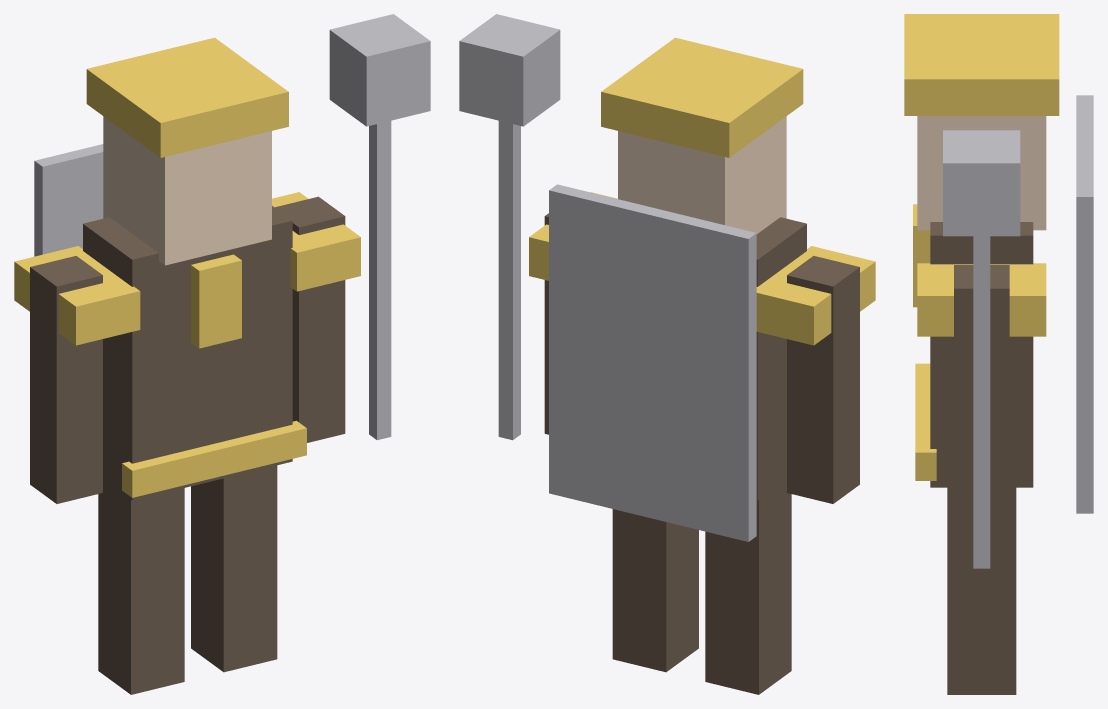
Rendered from 14_elo_echohand_runner_at_maintenance.glb.
3 renders of one model, left to right at view 1: azimuth 30°, elevation 25°; view 2: azimuth 150°, elevation 25°; view 3: azimuth 270°, elevation 25°, orthographic. The views are drawn at different scales.
Parts seen in each view (by area): view 1: Elo Echohand, Runner at Maintenance; view 2: Elo Echohand, Runner at Maintenance; view 3: Elo Echohand, Runner at Maintenance.
Part boxes in pixels (left/top/right/bottom): Elo Echohand, Runner at Maintenance: left=14, top=14, right=430, bottom=694; Elo Echohand, Runner at Maintenance: left=459, top=14, right=875, bottom=694; Elo Echohand, Runner at Maintenance: left=904, top=14, right=1093, bottom=694.
Size of the model in its own units: 1.12 by 1.7 by 0.4773.
